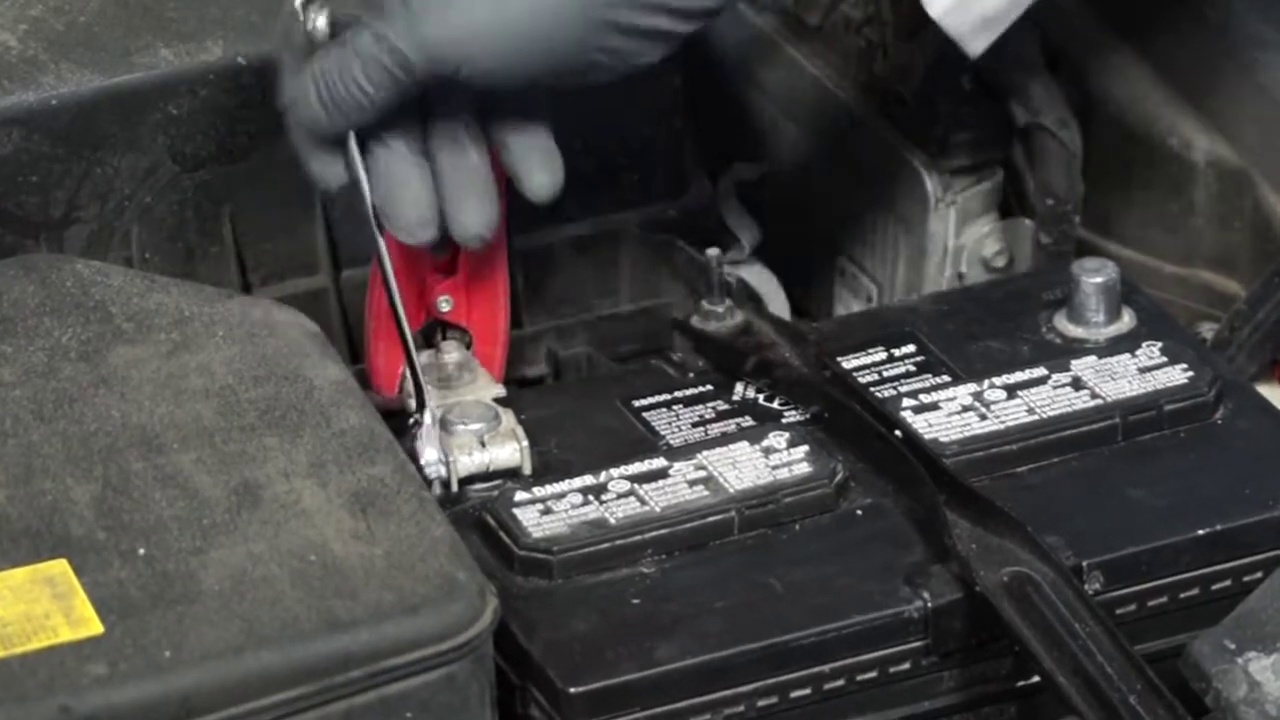battery: (391, 238, 1280, 656)
neg_disconnected: (1011, 227, 1181, 354)
pos_connected: (349, 254, 523, 489)
pos_touched: (289, 64, 564, 483)
